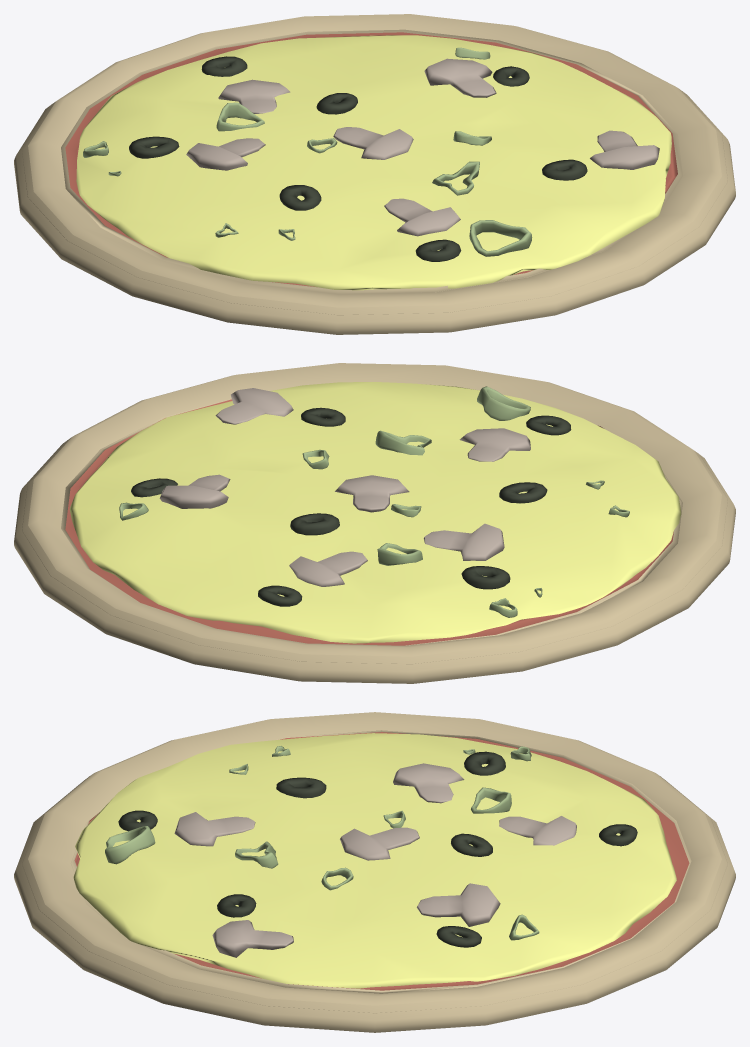
File: thin_mushroom.gltf
3 views of the same model, one above another, from view 1: azimuth 30°, elevation 25°; view 2: azimuth 150°, elevation 25°; view 3: azimuth 270°, elevation 25° (orthographic).
Parts seen in each view (by area): view 1: cheese, thin, polySurface128, polySurface162, polySurface129, polySurface163, polySurface130, polySurface161, polySurface174, polySurface156, polySurface159, polySurface157 (+6 smaller); view 2: cheese, thin, polySurface130, polySurface162, polySurface161, polySurface128, polySurface163, polySurface129, polySurface174, polySurface156, polySurface155, polySurface182 (+6 smaller); view 3: cheese, thin, polySurface128, polySurface162, polySurface130, polySurface163, polySurface129, polySurface161, polySurface174, polySurface159, polySurface156, polySurface158 (+6 smaller).
Part boxes in pixels (x1,y1,x2,y2): cheese: (76, 35, 671, 290); thin: (14, 14, 735, 334); polySurface128: (424, 58, 496, 97); polySurface162: (590, 130, 659, 169); polySurface129: (384, 198, 460, 236); polySurface163: (333, 127, 413, 159); polySurface130: (186, 138, 265, 170); polySurface161: (218, 79, 290, 113); polySurface174: (469, 220, 532, 256); polySurface156: (129, 136, 179, 158); polySurface159: (279, 185, 321, 210); polySurface157: (415, 239, 461, 261); cheese: (69, 382, 681, 643); thin: (14, 363, 735, 683); polySurface130: (423, 523, 504, 560); polySurface162: (215, 388, 293, 424); polySurface161: (289, 551, 367, 586); polySurface128: (159, 474, 230, 508); polySurface163: (335, 475, 409, 512); polySurface129: (459, 428, 530, 461); polySurface174: (477, 386, 530, 420); polySurface156: (461, 566, 510, 589); polySurface155: (290, 513, 339, 535); polySurface182: (375, 430, 431, 455); cheese: (73, 733, 676, 988); thin: (14, 712, 735, 1032); polySurface128: (416, 883, 500, 926); polySurface162: (212, 920, 293, 957); polySurface130: (393, 763, 464, 803); polySurface163: (340, 827, 419, 860); polySurface129: (174, 812, 255, 846); polySurface161: (499, 816, 576, 845); polySurface174: (105, 826, 155, 864); polySurface159: (276, 777, 326, 798); polySurface156: (464, 751, 505, 775); polySurface158: (436, 926, 481, 947).
Size of the model in its own units: 0.0974 by 0.00743 by 0.0974.
